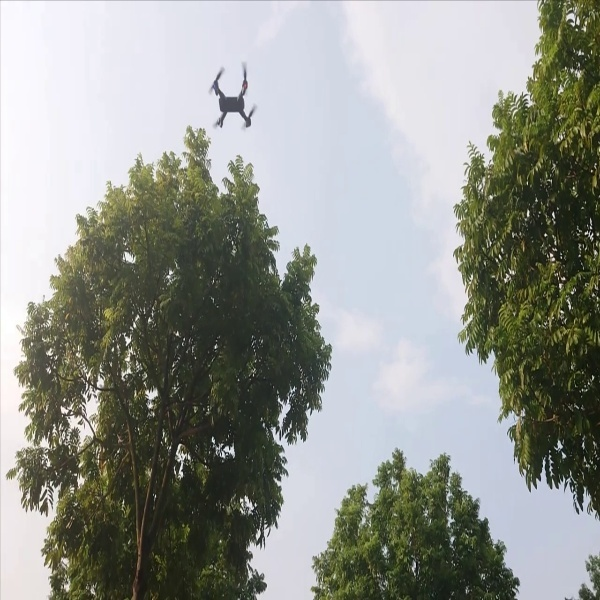drone: (198, 58, 265, 140)
